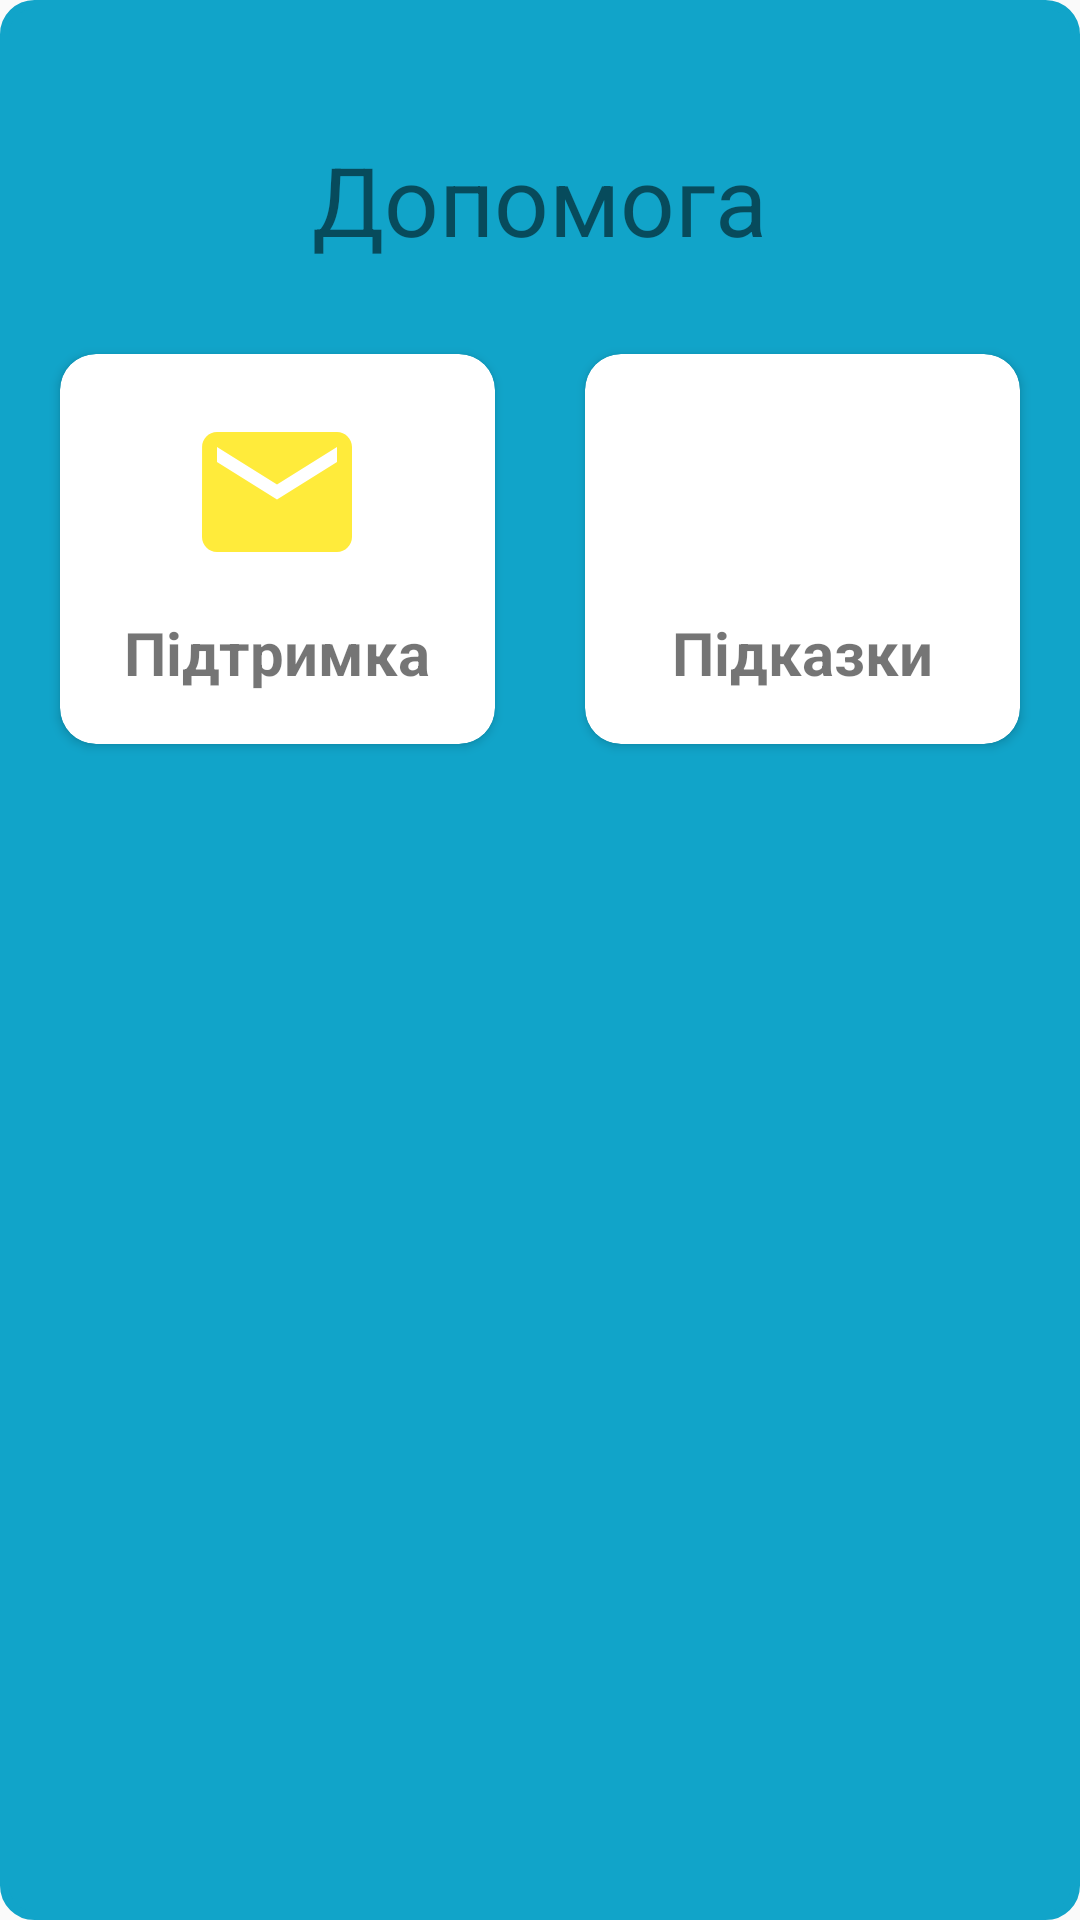

Locate icon controls on the screen. Image size 1080px×1920px, boxes as (x1, y1, x2, y2).
post sign: (202, 432, 352, 552)
